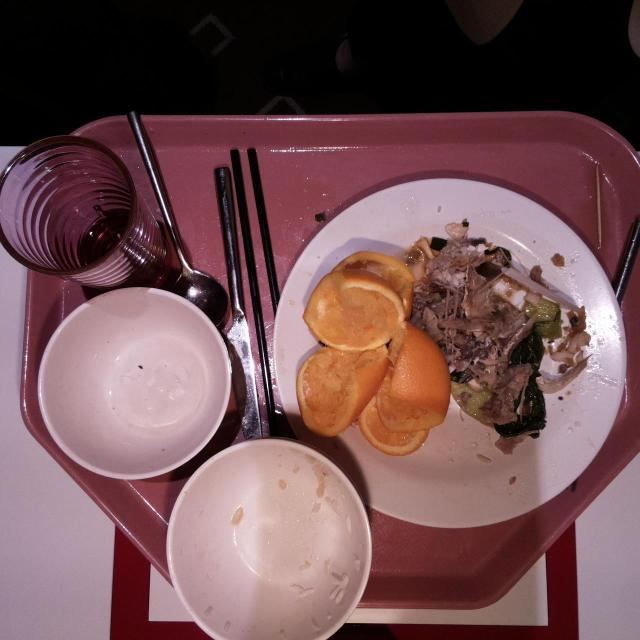Bone-fish: (424, 249, 506, 337)
Orange-peel: (354, 323, 450, 455), (303, 250, 415, 352), (298, 344, 390, 437)
Vegetable: (504, 330, 546, 442)
